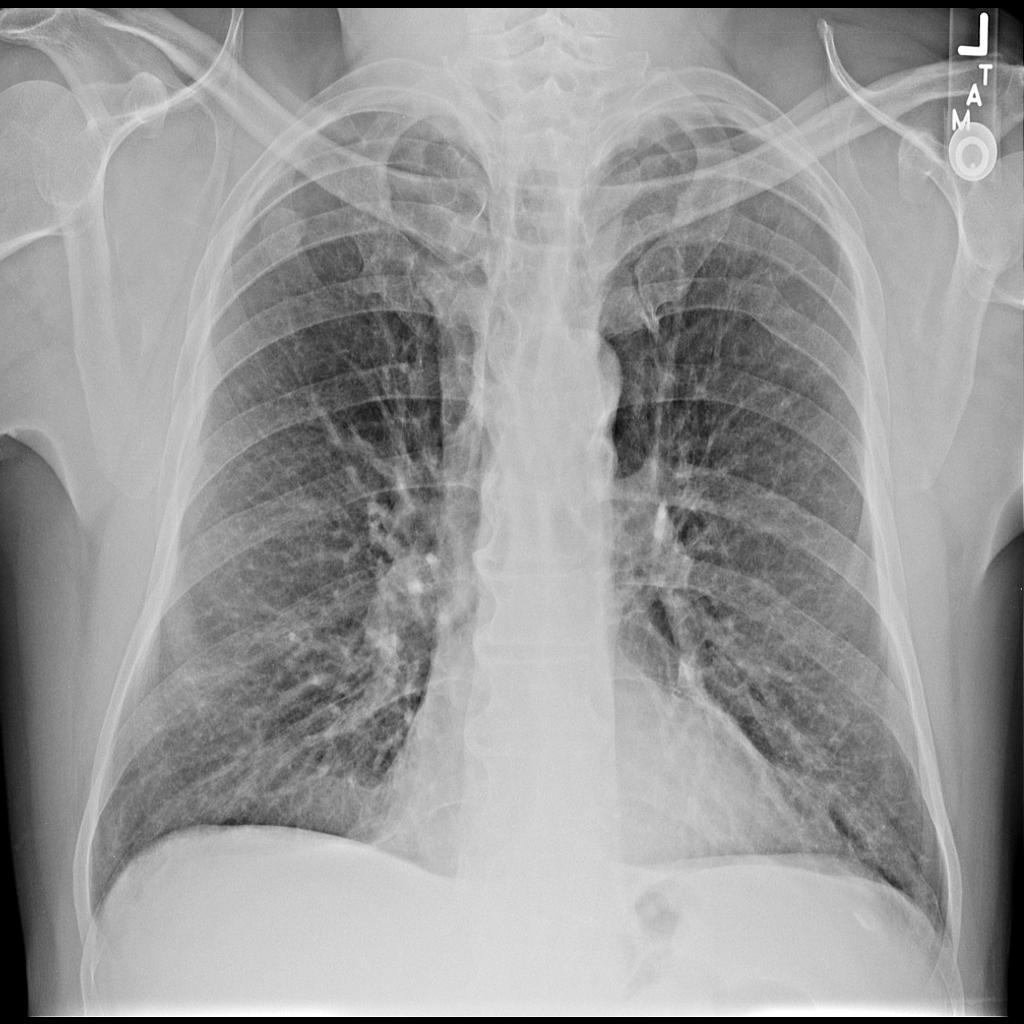Nodule: (258, 208, 304, 252)
